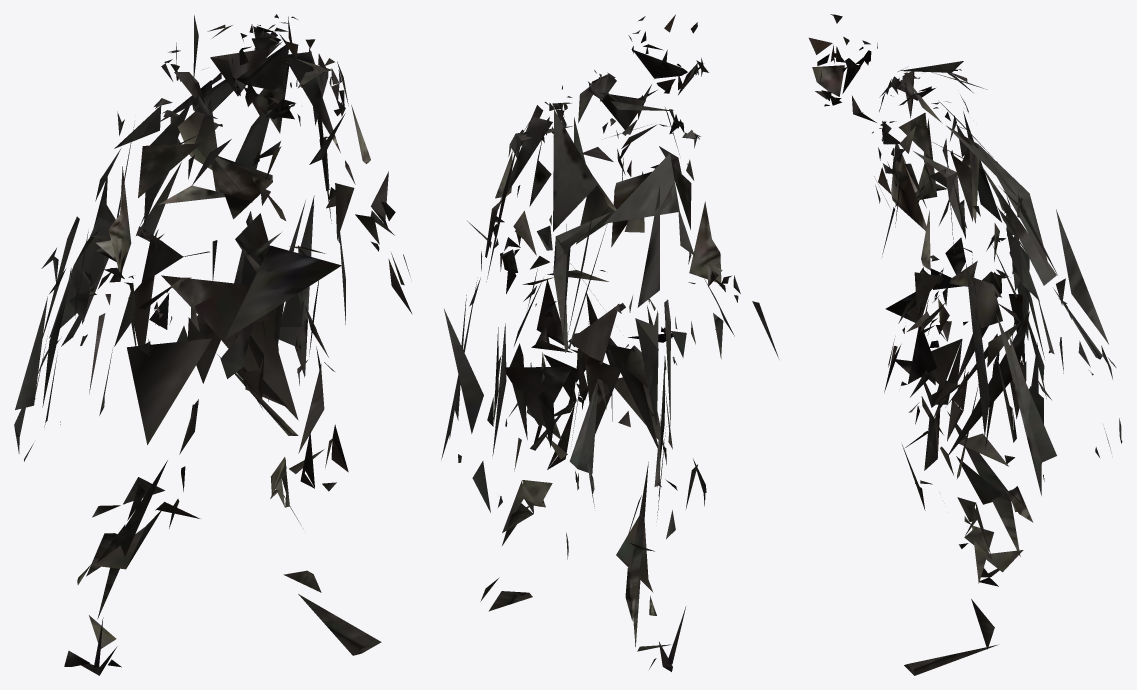
Rendered from hooded_male_far.glb.
3 renders of one model, left to right at view 1: azimuth 30°, elevation 25°; view 2: azimuth 150°, elevation 25°; view 3: azimuth 270°, elevation 25°, orthographic. The views are drawn at different scales.
Parts seen in each view (by area): view 1: Far; view 2: Far; view 3: Far.
Boxes of the visible parts, box(x1,y1,x2,y2) form: Far: box(14, 14, 412, 675); Far: box(441, 14, 779, 671); Far: box(809, 14, 1122, 675).
Bounding box in the file's own units: 0.8684 × 1.7 × 0.8208.
Materials: 1 (1 with a texture image).
